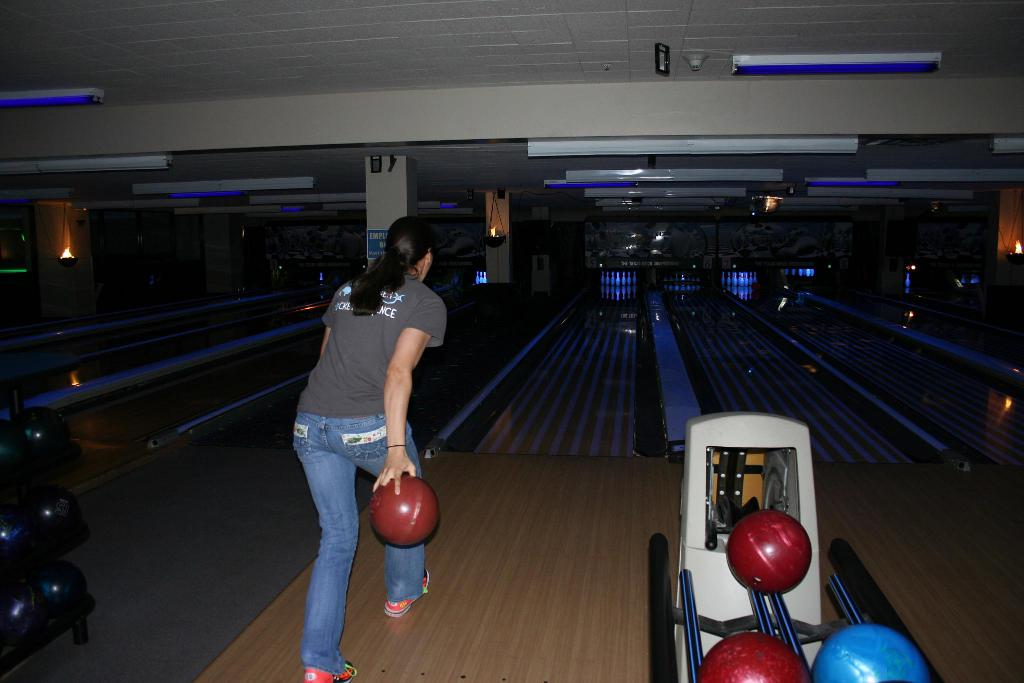Ball: (727, 508, 810, 595), (818, 630, 931, 682), (367, 472, 440, 548), (702, 634, 815, 682)
